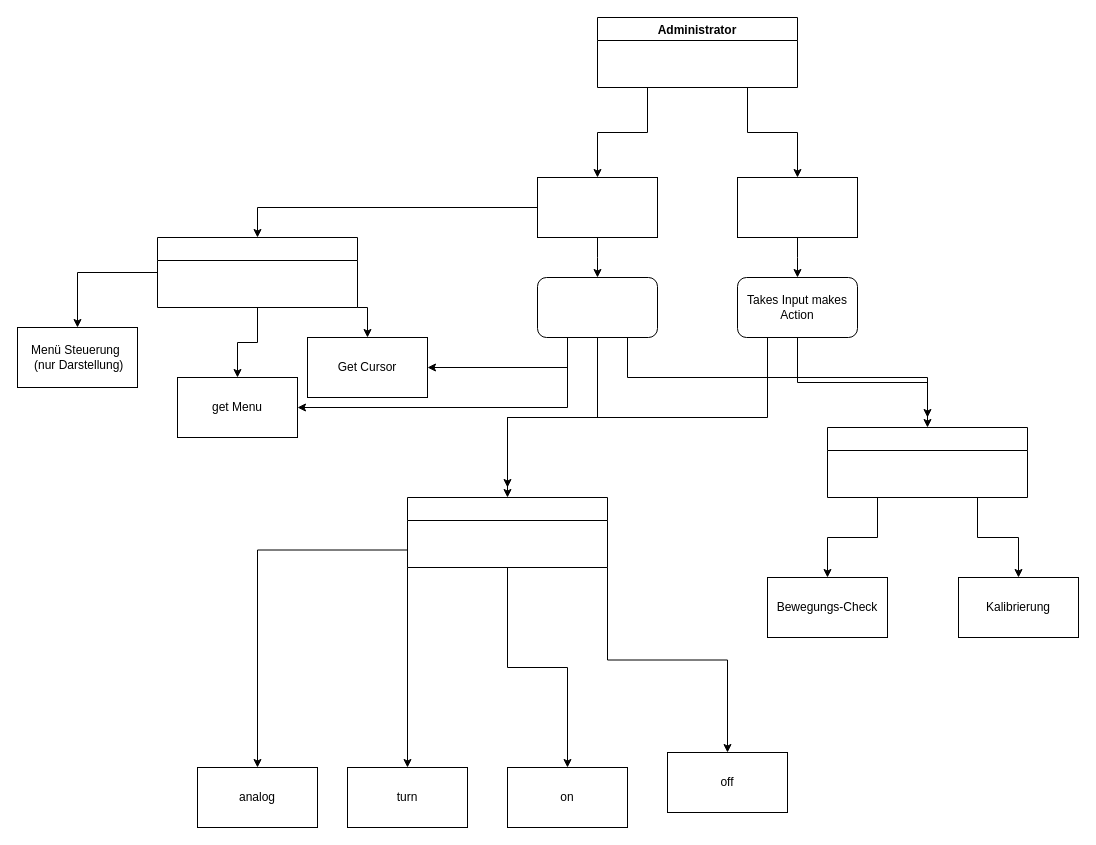
The diagram is 1096 pixels wide and 845 high, and some of its shapes have lost their labels. Here are the shapes that lost their labels. From the top down, the centre of each, then its label:
point 597,207: Joystick/Button Input
point 797,207: Remote Control
point 257,272: Menü
point 597,307: Takes Input and makes Action
point 927,462: Bewegungsmelder
point 507,532: LED Steuerung
